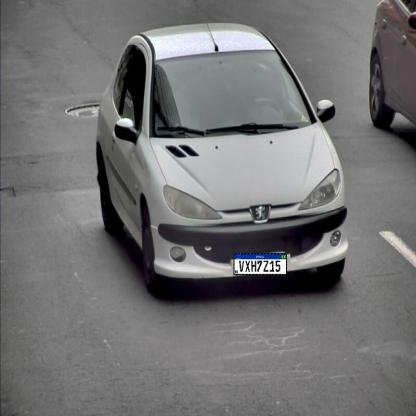PlacaM: (234, 253, 287, 275)
